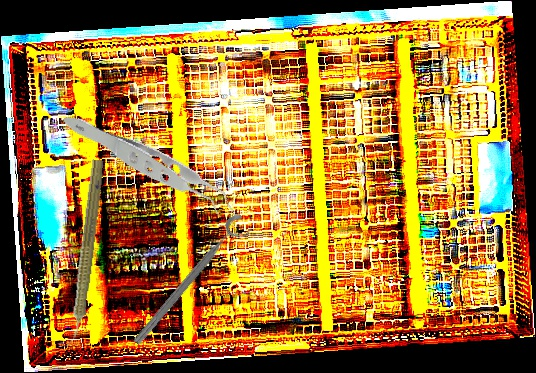Fixation Ring: (129, 210, 256, 355)
Handpiece: (61, 158, 108, 349)
Tissue Forceps: (61, 66, 241, 272)
